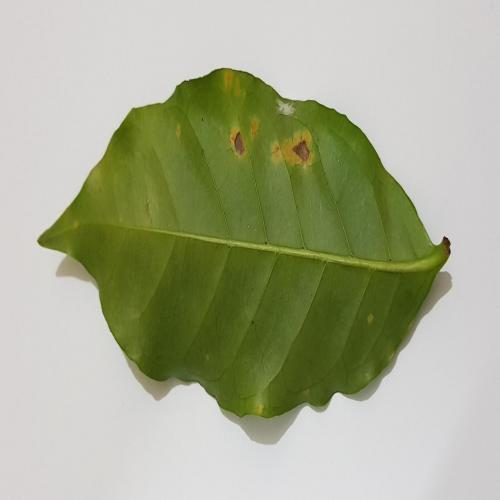phoma: (223, 69, 241, 97)
